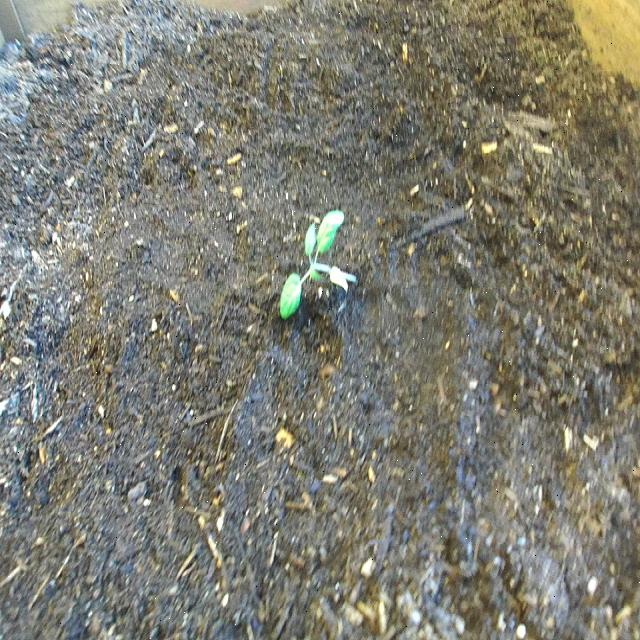Healthy: (278, 206, 360, 320)
